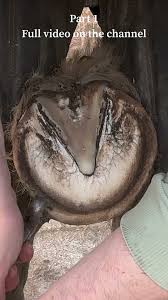horsesole: (11, 83, 158, 225)
